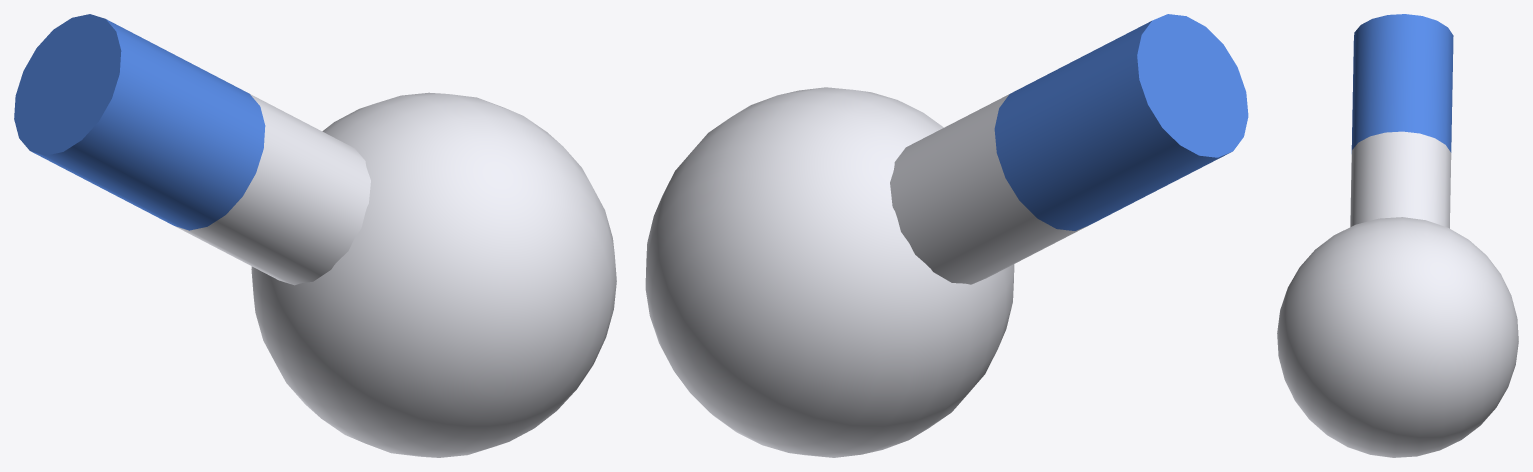
3 renders of one model, left to right at view 1: azimuth 30°, elevation 25°; view 2: azimuth 150°, elevation 25°; view 3: azimuth 270°, elevation 25°, orthographic. The views are drawn at different scales.
Parts seen in each view (by area): view 1: 对象004; view 2: 对象004; view 3: 对象004.
Part boxes in pixels (left/top/right/bottom): 对象004: left=14, top=14, right=616, bottom=457; 对象004: left=645, top=14, right=1248, bottom=457; 对象004: left=1277, top=14, right=1518, bottom=457.
Size of the model in its own units: 21.18 by 17.99 by 11.99.
Materials: 1 (1 with a texture image).
